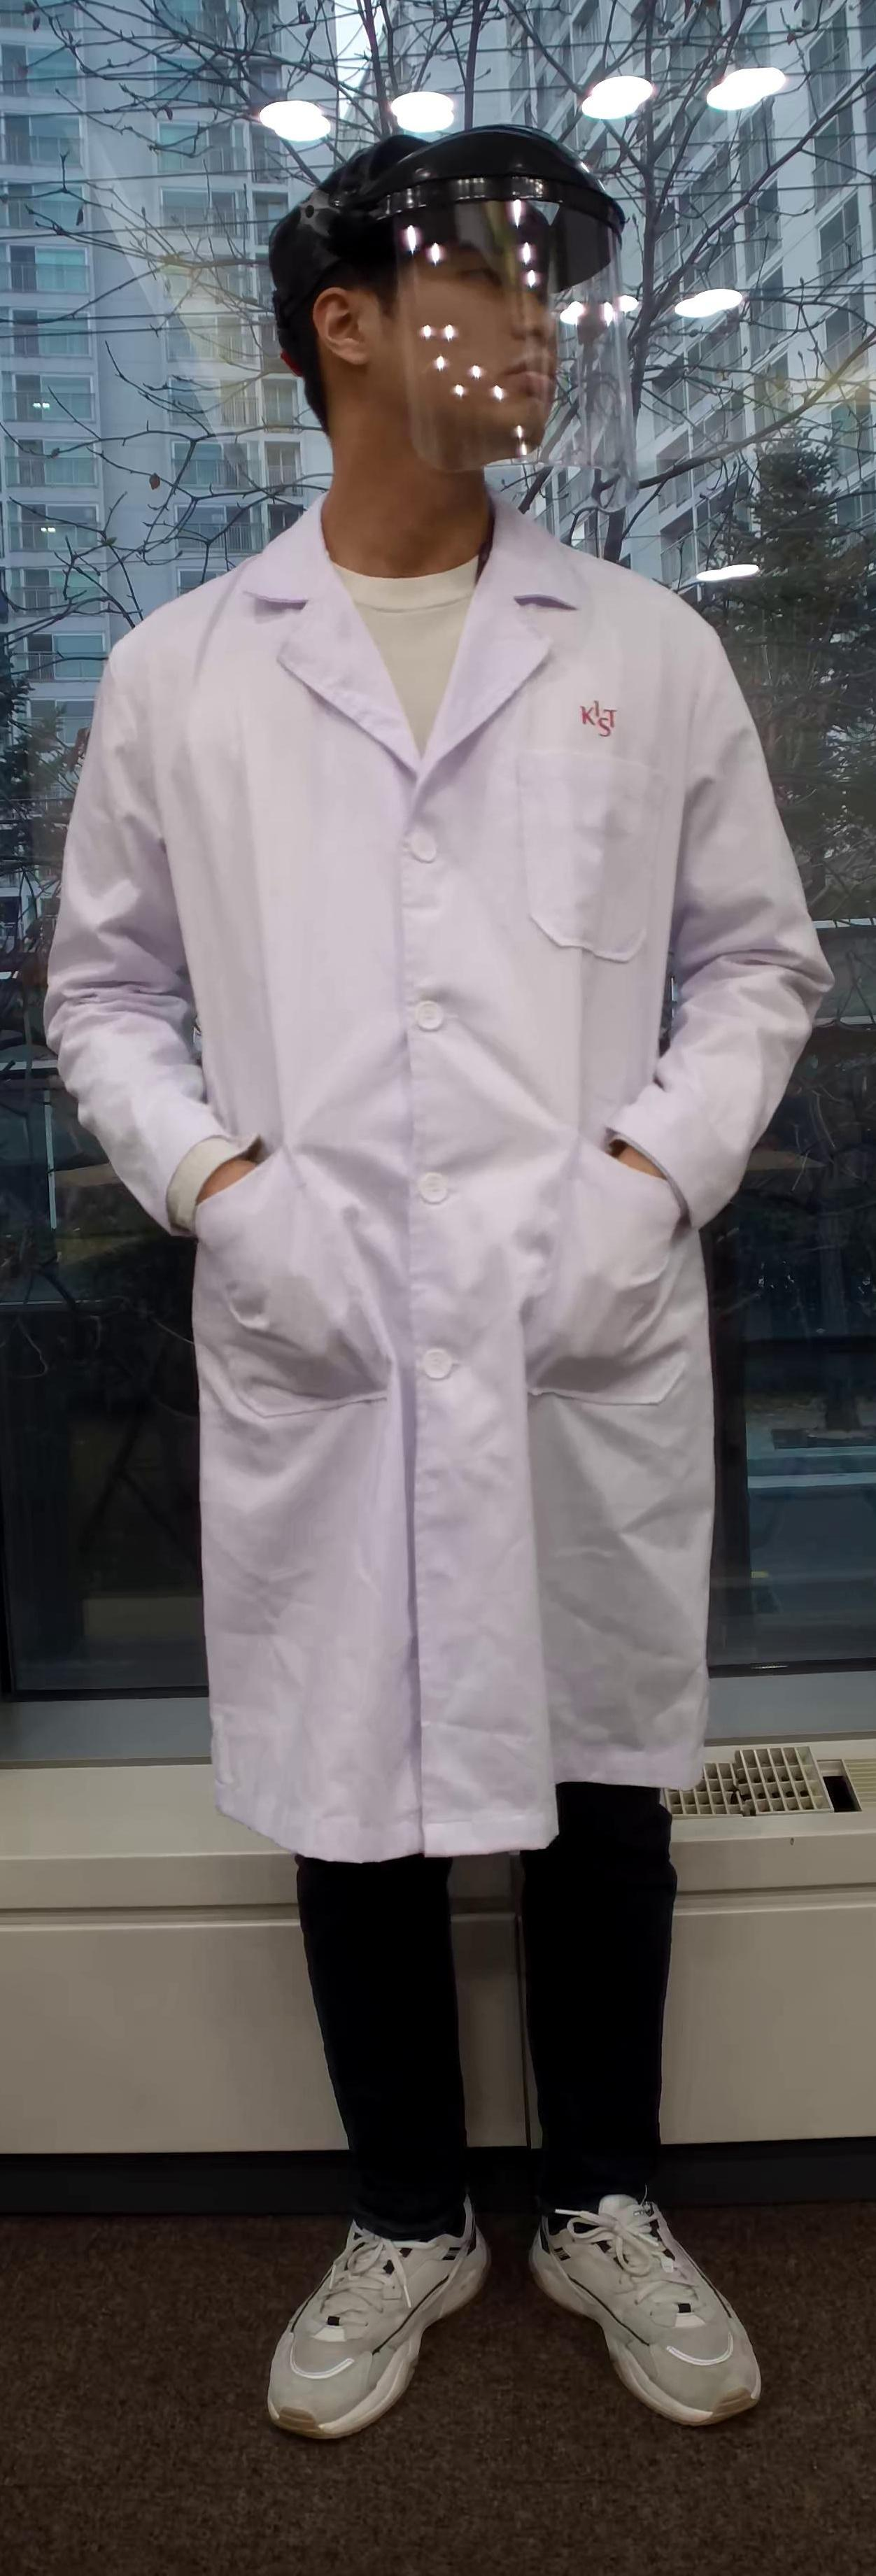lab_coat: (141, 603, 730, 1842)
